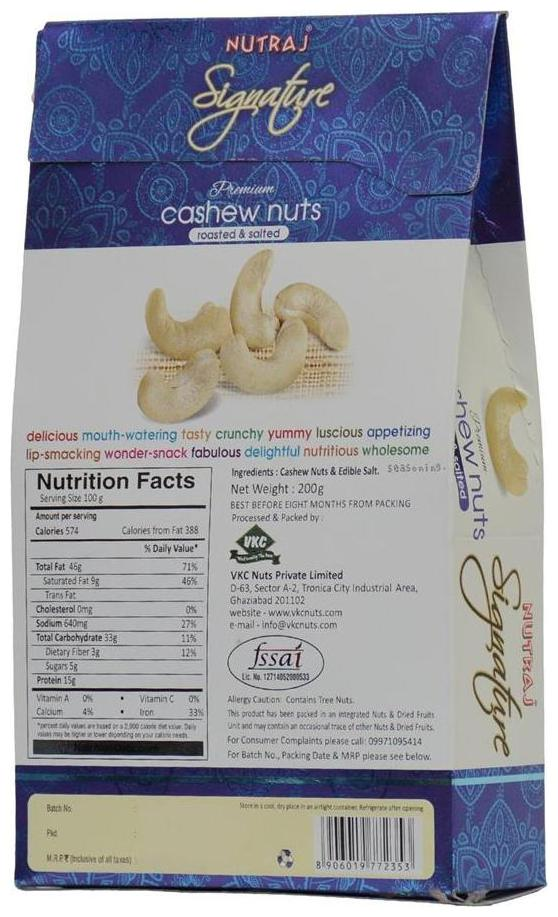fssai: (247, 641, 307, 669)
